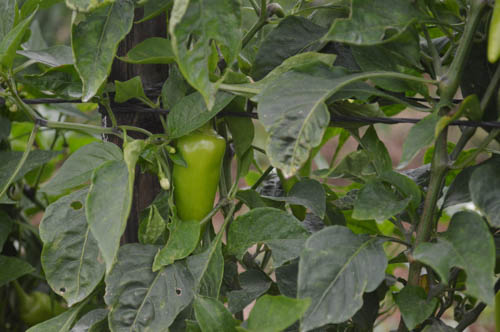ChiliPepper: (167, 133, 224, 241)
